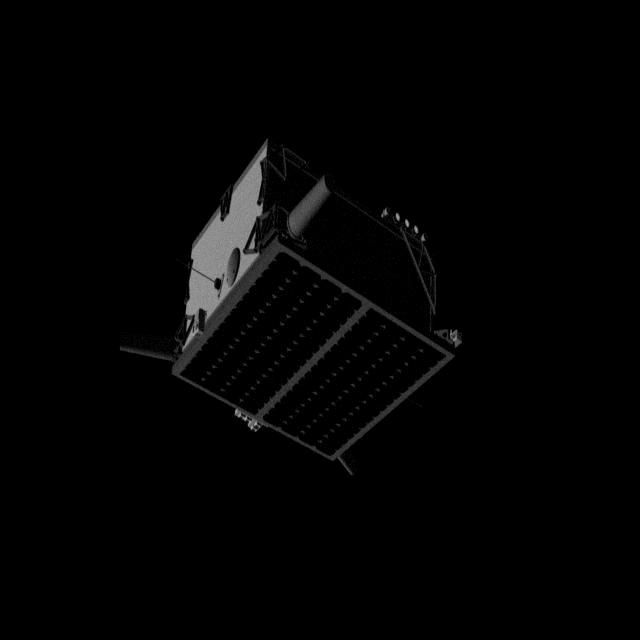medium_debris: (122, 130, 468, 470)
